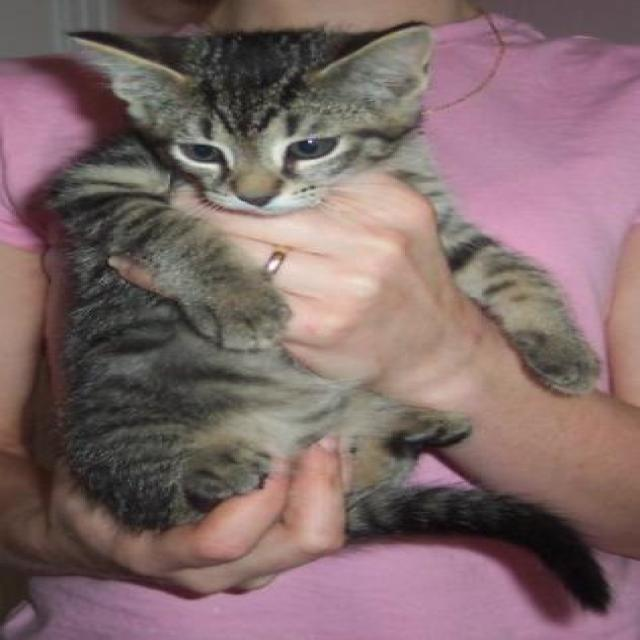Cat: (41, 19, 614, 614)
